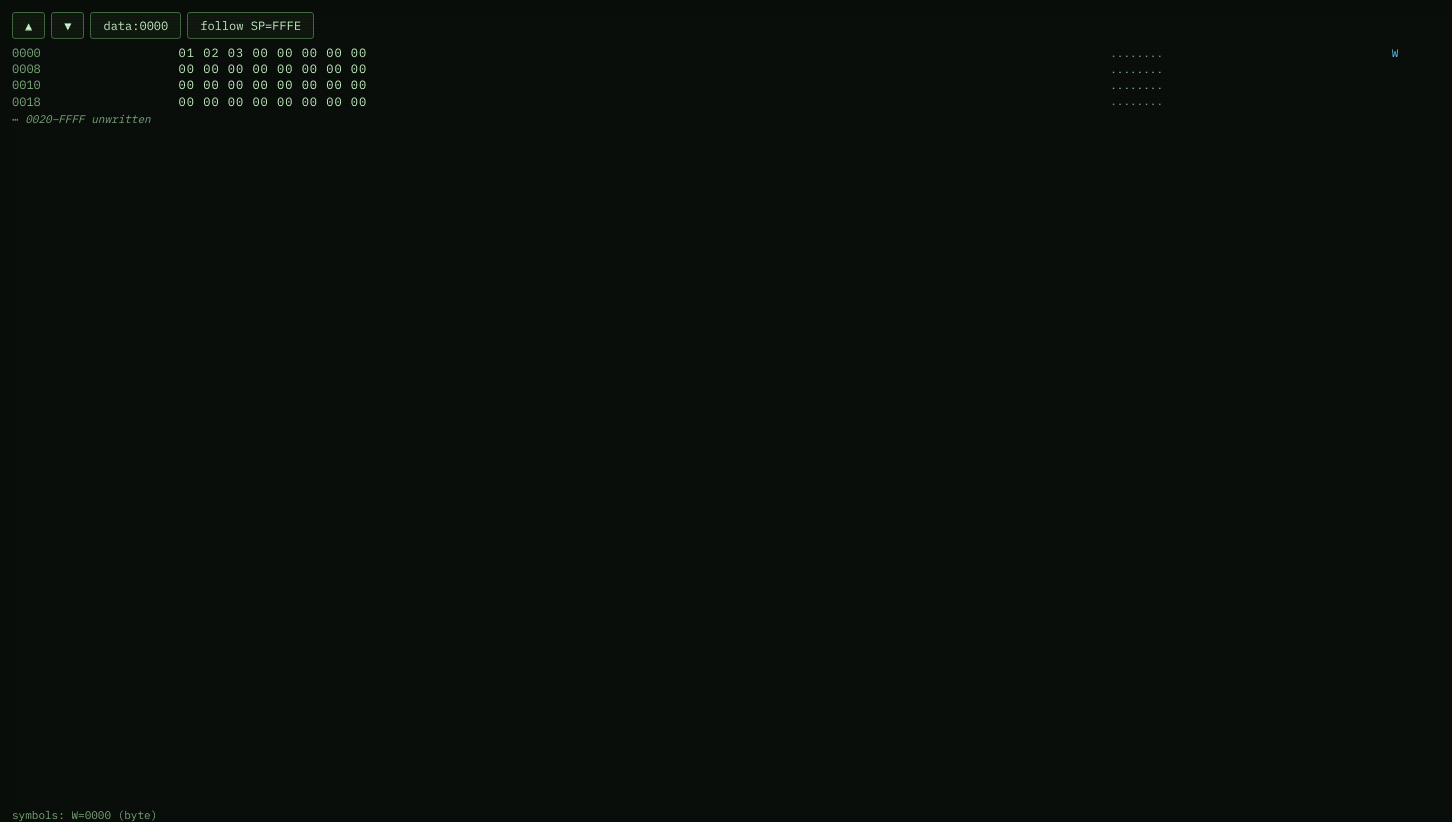
Test: MemoryView elision › renders the full window once the user navigates
Check: the row with class "mem-elided" is shown, box [12,110,1451,129]
Step 1. Click the button named "scroll memory view down" → (68, 26), box [51,12,84,39]
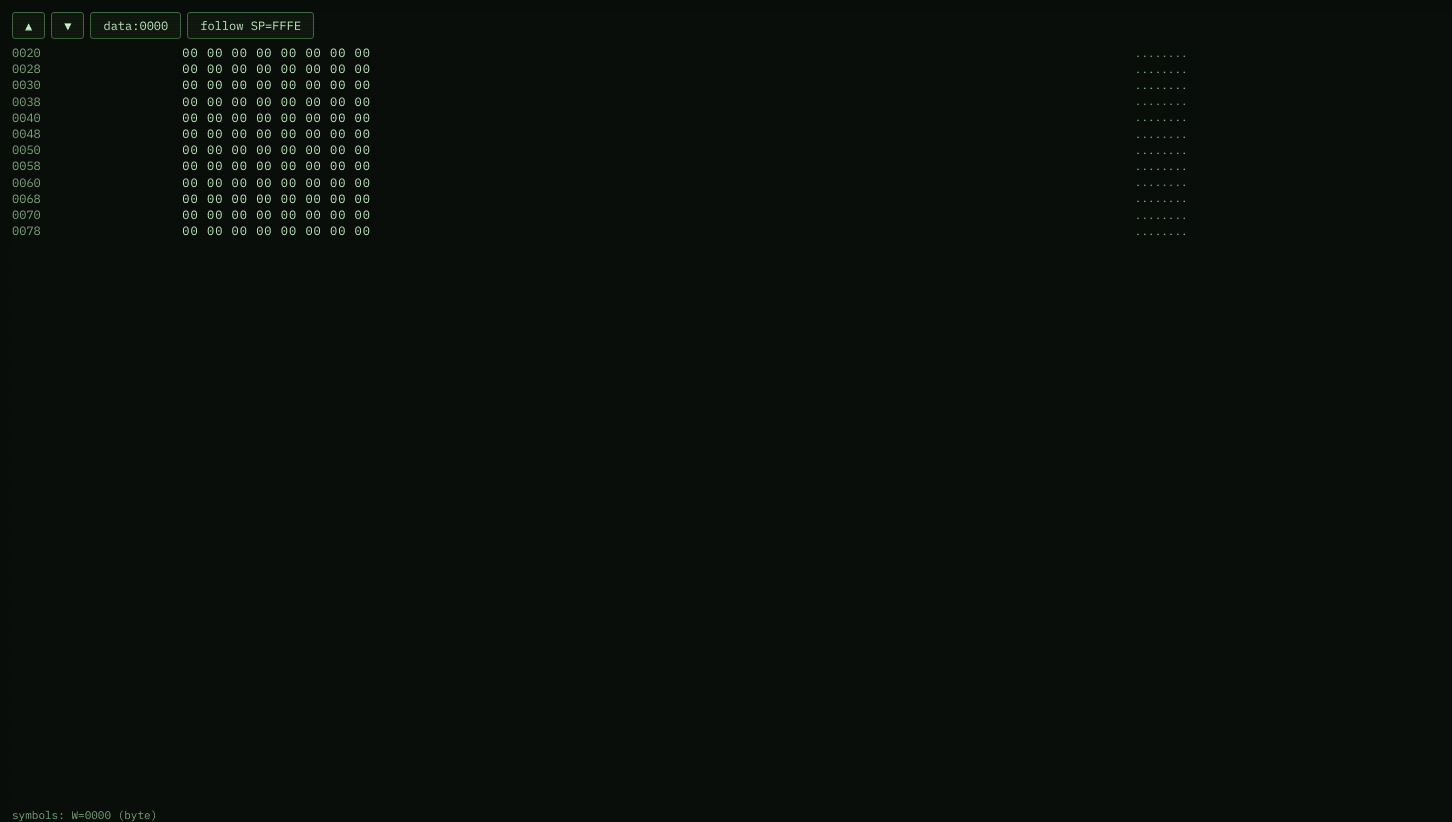
Check: the row with class "mem-elided" is gone
Check: the number of rows is 12
